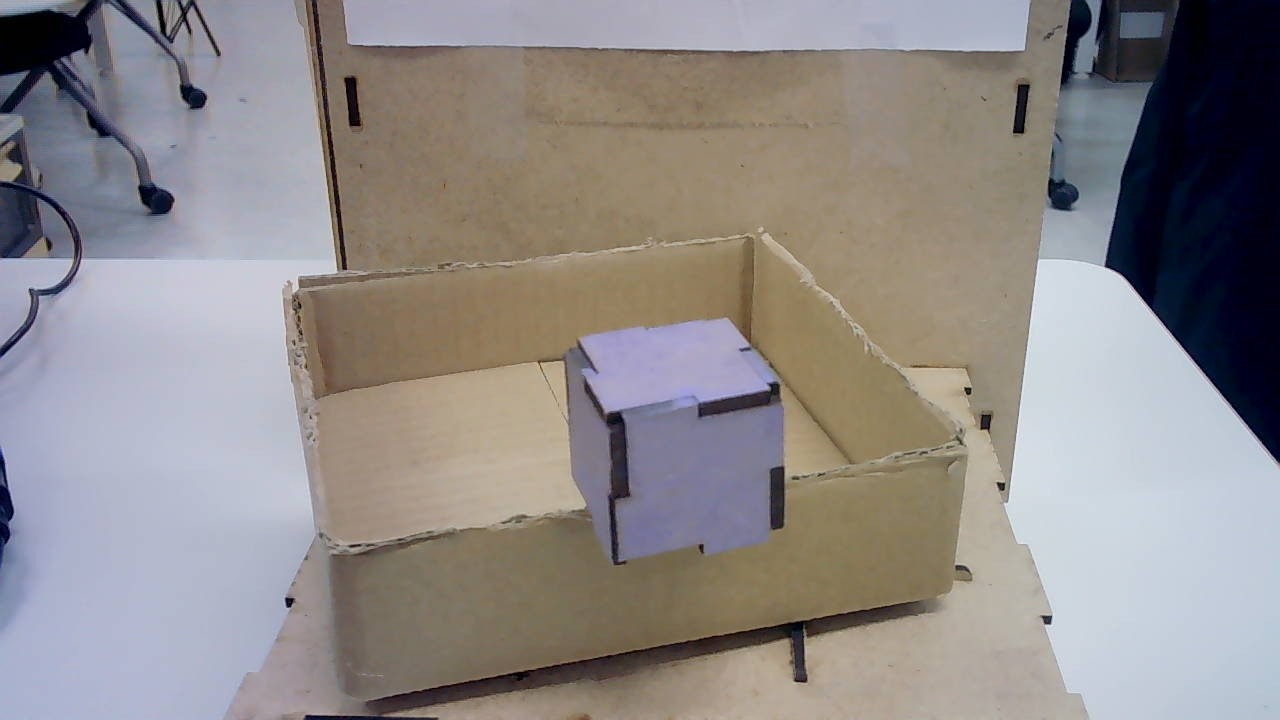pulple box: (561, 315, 790, 562)
